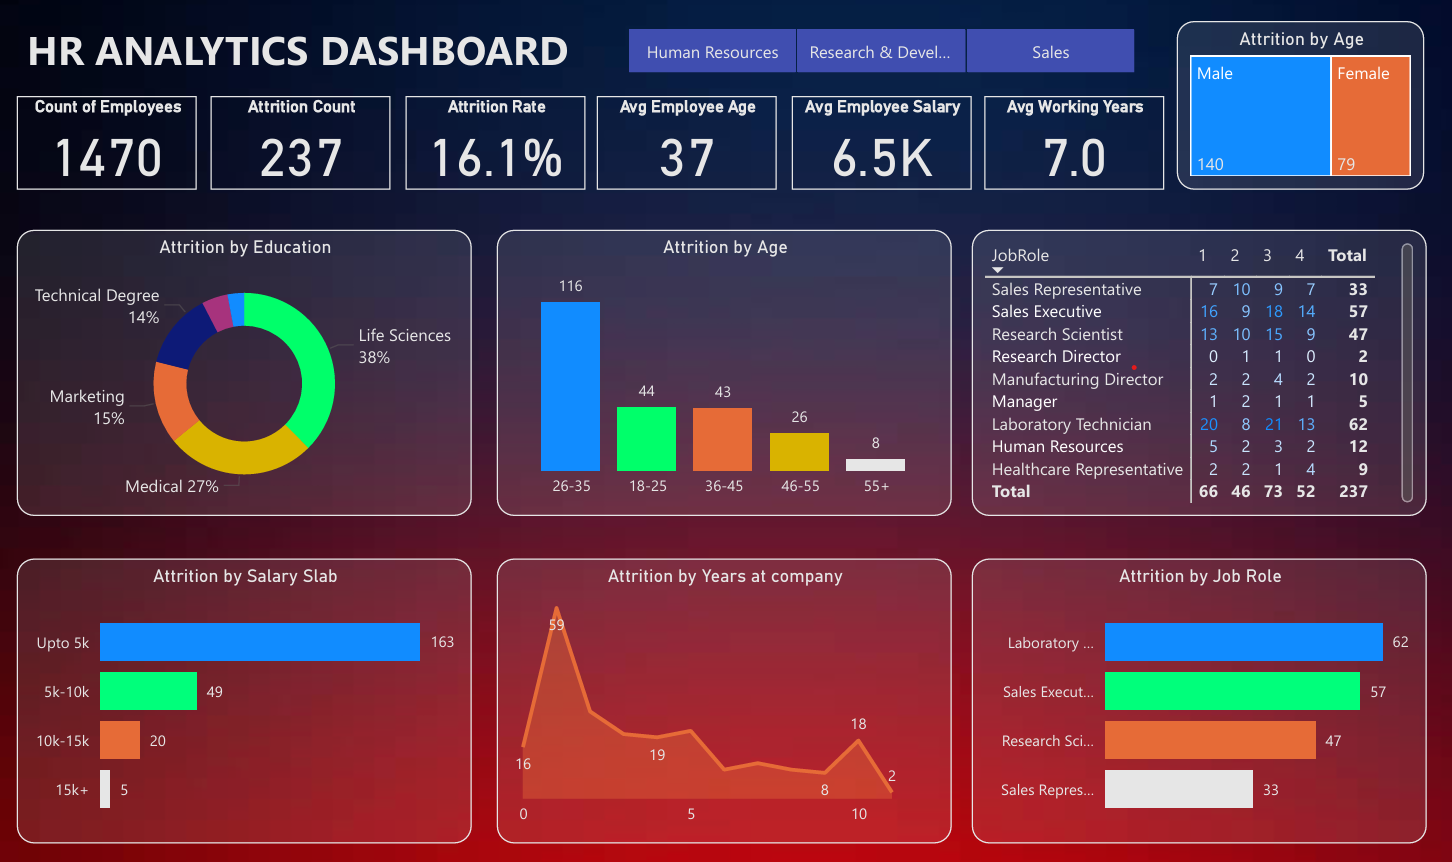

What the dashboard file says about the page in this screenshot:
{"tool":"powerbi","page":{"name":"Employee Attrition Analytics","canvas":[1280,720],"ordinal":0},"visuals":[{"type":"card","title":"Count of Employees","fields":{"Values":["CountNonNull(HR_Analytics.EmpID)"]},"box":[13.7,98.8,164.7,85.1],"z":0},{"type":"card","title":"Attrition Count","fields":{"Values":["Sum(HR_Analytics.AttritionCount)"]},"box":[186.6,98.8,164.7,85.1],"z":1000},{"type":"card","title":"Attrition Rate","fields":{"Values":["HR_Analytics.AttritionRate"]},"box":[362.3,98.8,164.7,85.1],"z":2000},{"type":"card","title":"Avg Employee Age","fields":{"Values":["Avg(HR_Analytics.Age)"]},"box":[537.9,98.8,164.7,85.1],"z":3000},{"type":"card","title":"Avg Employee Salary","fields":{"Values":["Avg(HR_Analytics.MonthlyIncome)"]},"box":[713.6,98.8,164.7,85.1],"z":4000},{"type":"card","title":"Avg Working Years","fields":{"Values":["Avg(HR_Analytics.YearsAtCompany)"]},"box":[890.6,98.8,164.7,85.1],"z":5000},{"type":"donutChart","title":"Attrition by Education","fields":{"Category":["HR_Analytics.EducationField"],"Y":["Sum(HR_Analytics.AttritionCount)"]},"box":[13.7,199,419.9,240.1],"z":6000},{"type":"columnChart","title":"Attrition by Age","fields":{"Category":["HR_Analytics.AgeGroup"],"Y":["Sum(HR_Analytics.AttritionCount)"]},"box":[859,459.7,404.8,240.1],"z":7000},{"type":"pivotTable","fields":{"Rows":["HR_Analytics.JobRole"],"Columns":["HR_Analytics.JobSatisfaction"],"Values":["Sum(HR_Analytics.AttritionCount)"]},"box":[859,199,404.8,240.1],"z":8000},{"type":"barChart","title":"Attrition by Salary Slab","fields":{"Category":["HR_Analytics.SalarySlab"],"Y":["Sum(HR_Analytics.AttritionCount)"]},"box":[448.7,459.7,393.8,240.1],"z":9000},{"type":"barChart","title":"Attrition by Job Role","fields":{"Category":["HR_Analytics.JobRole"],"Y":["Sum(HR_Analytics.AttritionCount)"]},"box":[448.7,199,393.8,240.1],"z":10000},{"type":"areaChart","title":"Attrition by Years at company","fields":{"Category":["HR_Analytics.YearsAtCompany"],"Y":["Sum(HR_Analytics.AttritionCount)"]},"box":[13.7,458.3,421.3,241.5],"z":11000},{"type":"treemap","title":"Attrition by Gender","fields":{"Group":["HR_Analytics.Gender"],"Values":["Sum(HR_Analytics.AttritionCount)"]},"box":[1064.8,17.8,199,166],"z":12000},{"type":"slicer","fields":{"Values":["HR_Analytics.Department"]},"box":[627.1,17.8,428.1,64.5],"z":13000},{"type":"textbox","box":[13.7,17.8,601,64.5],"z":14000}]}

Visuals, with their boxes in screenshot pixels (x1, y1, x2, y2):
"Count of Employees" card: [11, 186, 189, 278]
"Attrition Count" card: [198, 186, 375, 278]
"Attrition Rate" card: [387, 186, 565, 278]
"Avg Employee Age" card: [577, 186, 754, 278]
"Avg Employee Salary" card: [766, 186, 944, 278]
"Avg Working Years" card: [957, 186, 1135, 278]
"Attrition by Education" donutChart: [11, 294, 464, 553]
"Attrition by Age" columnChart: [923, 575, 1360, 835]
pivotTable - HR_Analytics.JobRole x HR_Analytics.JobSatisfaction: [923, 294, 1360, 553]
"Attrition by Salary Slab" barChart: [480, 575, 905, 835]
"Attrition by Job Role" barChart: [480, 294, 905, 553]
"Attrition by Years at company" areaChart: [11, 574, 466, 835]
"Attrition by Gender" treemap: [1145, 99, 1360, 278]
slicer - HR_Analytics.Department: [673, 99, 1135, 168]
textbox: [11, 99, 659, 168]
